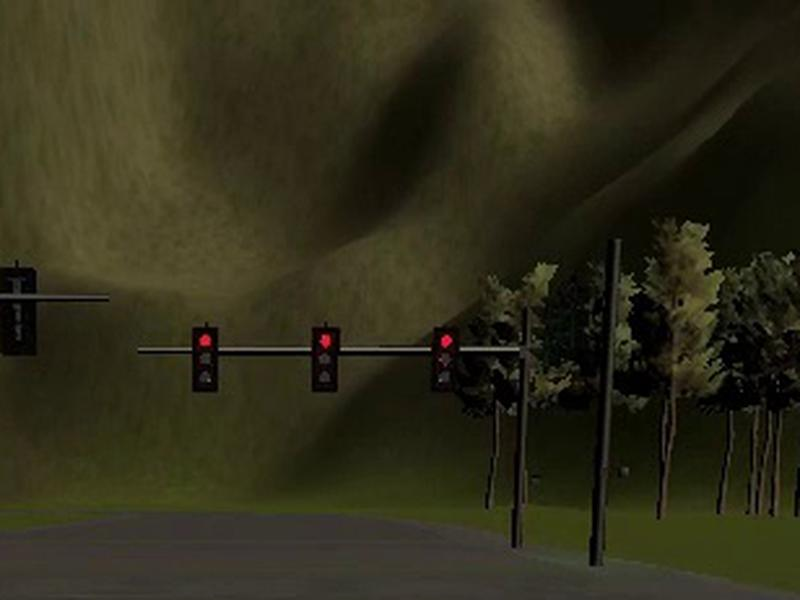Red: (429, 325, 459, 393), (312, 326, 338, 391), (192, 325, 216, 393)
